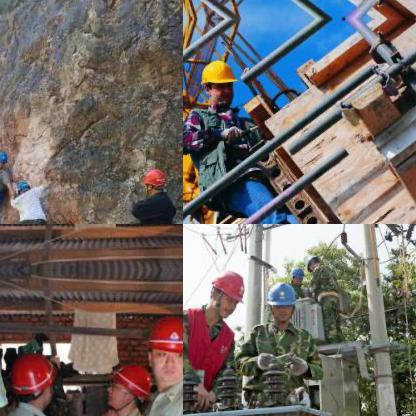Helmet: (4, 343, 62, 415), (142, 313, 182, 384), (102, 361, 152, 413), (206, 264, 246, 318), (196, 60, 244, 104), (265, 276, 297, 324), (139, 166, 165, 192), (12, 178, 31, 198), (302, 252, 322, 270), (288, 264, 304, 284), (0, 148, 7, 170)
